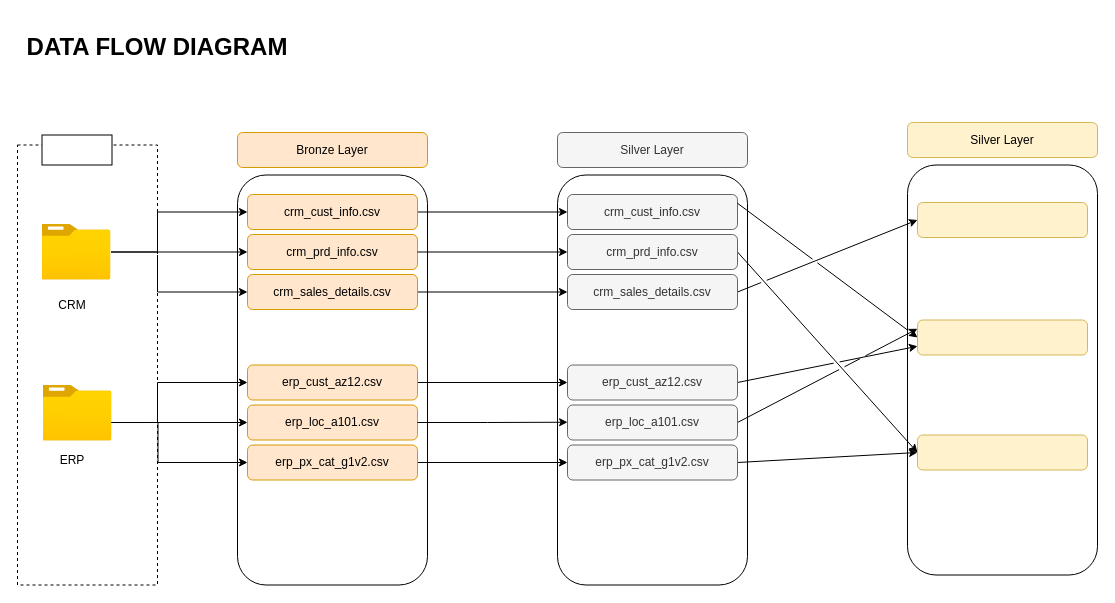
Some shapes in this 1115 by 603 pixel diagram are drawn without their labels. The centre of each missing label's shape, as x and y in pixels:
"dim_customers" goes at (1002,337).
"dim_products" goes at (1002,452).
"fact_sales" goes at (1002,220).
"Sources" goes at (76,149).
